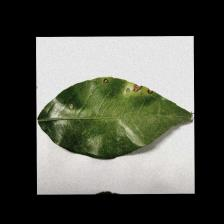canker: (96, 69, 182, 119)
